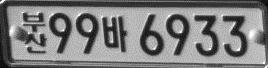3: (221, 14, 247, 57), (194, 14, 218, 56)
6: (139, 13, 164, 56)
9: (74, 12, 99, 54), (165, 13, 189, 55), (48, 12, 71, 54)
바: (101, 15, 127, 52)
부산_V: (21, 10, 47, 54)
